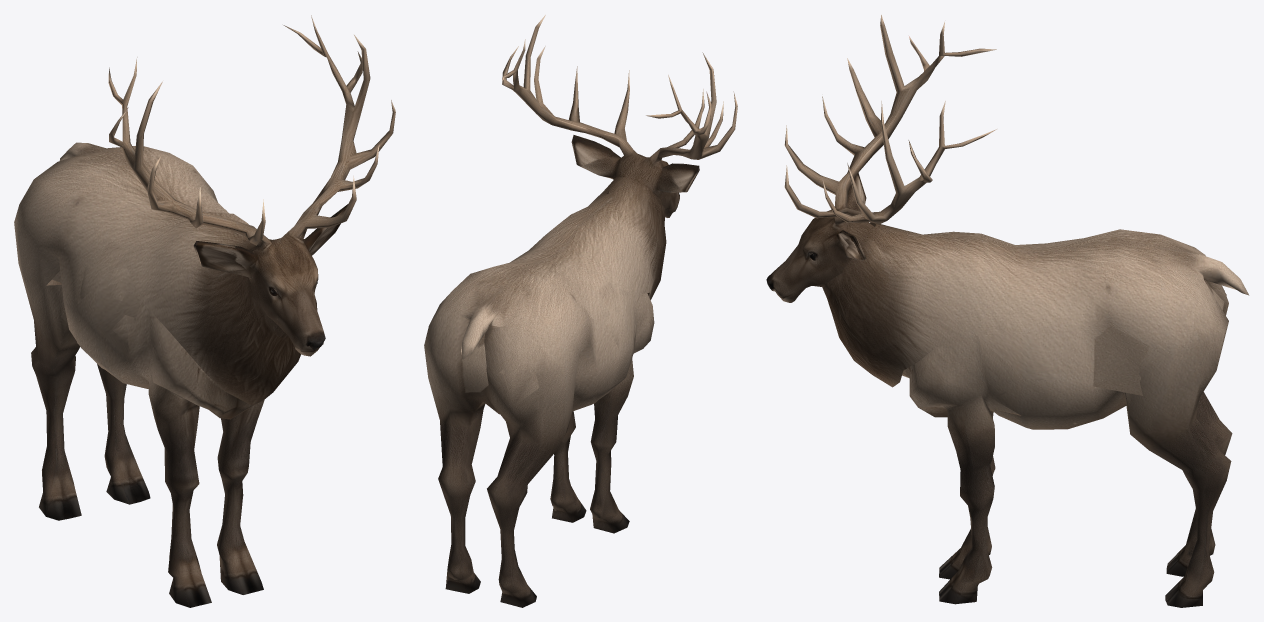
Rendered from colorado.fbx.
The picture shows the model from 3 angles, left to right: view 1: azimuth 30°, elevation 25°; view 2: azimuth 150°, elevation 25°; view 3: azimuth 270°, elevation 25°; orthographic projection. The views are drawn at different scales.
Visible parts, largest first — view 1: Mesh_0; view 2: Mesh_0; view 3: Mesh_0.
Boxes of the visible parts, bbox=[...] form: Mesh_0: bbox=[14, 15, 395, 607]; Mesh_0: bbox=[424, 15, 737, 607]; Mesh_0: bbox=[766, 15, 1249, 607].
Size of the model in its own units: 46.78 by 100 by 83.01.
Materials: 1 (1 with a texture image).
